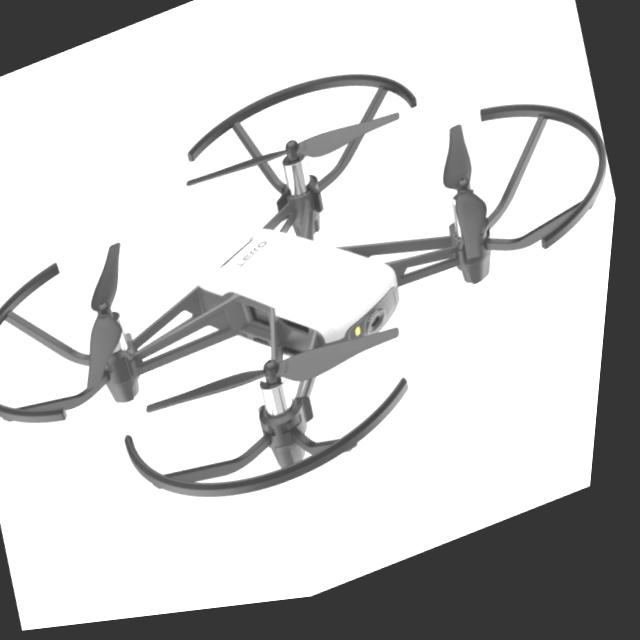drone: (0, 83, 611, 504)
